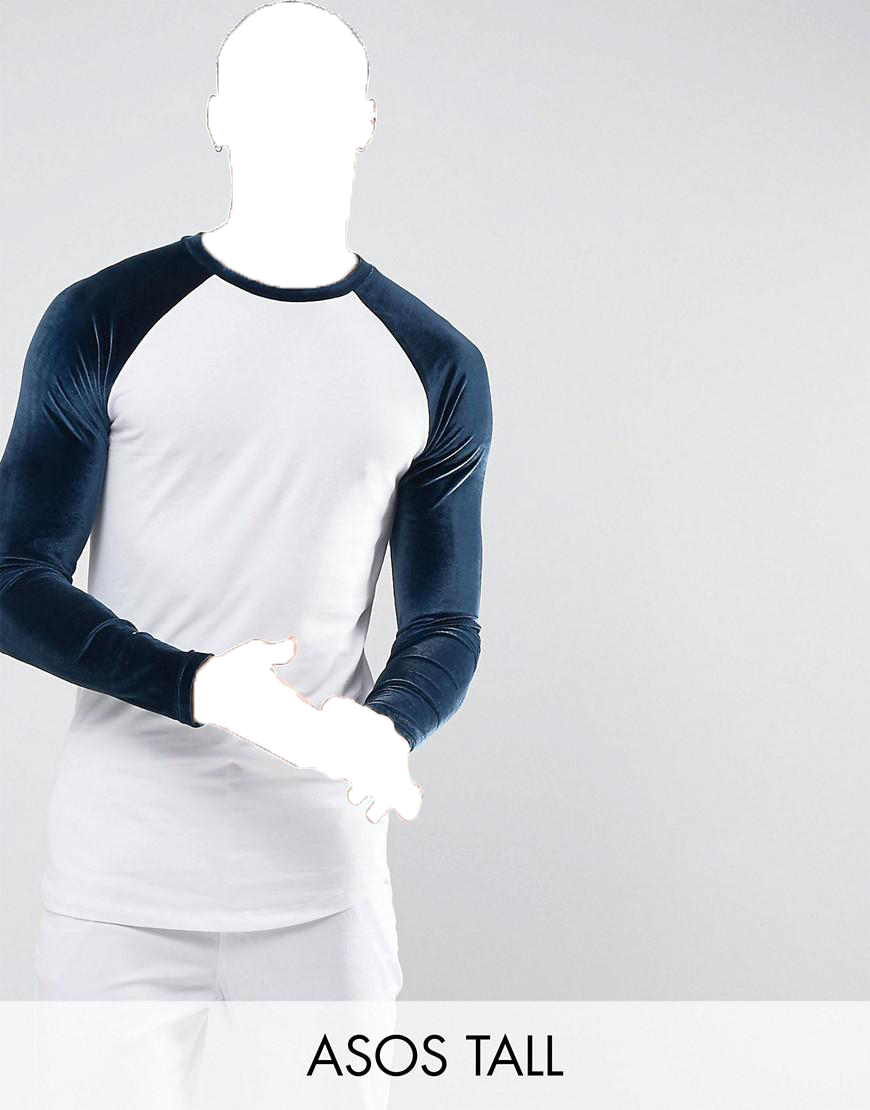teeshirt: (1, 230, 498, 935)
